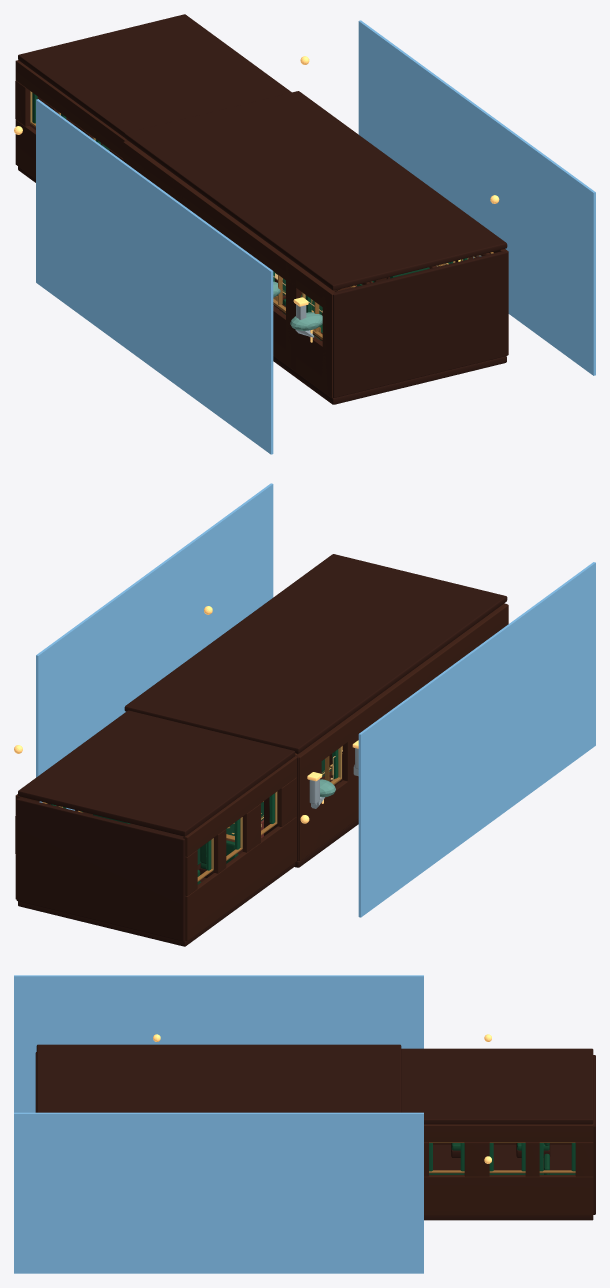
The model's file is train_carriage.glb.
3 views of the same model, one above another, from view 1: azimuth 30°, elevation 25°; view 2: azimuth 150°, elevation 25°; view 3: azimuth 270°, elevation 25° (orthographic). The views are drawn at different scales.
Visible parts, largest first — view 1: Exterior | endless twilight, Ceiling | inner canopy, Exterior | endless twilight.001, Front wall | end panel, Next carriage | ceiling canopy, Side wall | upper mahogany, Next carriage | left upper wall, Side wall | lower mahogany, Floor | dark oak foundation, Side wall | end pier, Side wall | window pier.004, Next carriage | left lower wall (+1 smaller); view 2: Exterior | endless twilight, Ceiling | inner canopy, Exterior | endless twilight.001, Next carriage | ceiling canopy, Next carriage | distant end wall, Next carriage | left lower wall, Side wall | upper mahogany, Next carriage | left upper wall, Side wall | lower mahogany, Side wall | window pier, Next carriage | walnut floor, Next carriage | window end pier (+2 smaller); view 3: Exterior | endless twilight.001, Exterior | endless twilight, Ceiling | inner canopy, Next carriage | ceiling canopy, Next carriage | right lower wall, Next carriage | right upper wall, Next carriage | walnut floor, Next carriage | window pier.005, Next carriage | window pier.003, Next carriage | window pier.004, Next carriage | distant end wall.
Part boxes in pixels (x1,y1,x2,y2): Exterior | endless twilight: (36, 99, 273, 454); Ceiling | inner canopy: (124, 91, 507, 290); Exterior | endless twilight.001: (358, 20, 595, 375); Front wall | end panel: (333, 251, 507, 397); Next carriage | ceiling canopy: (18, 14, 291, 137); Side wall | upper mahogany: (123, 141, 333, 313); Next carriage | left upper wall: (15, 60, 127, 158); Side wall | lower mahogany: (273, 306, 332, 398); Floor | dark oak foundation: (273, 356, 506, 404); Side wall | end pier: (322, 287, 334, 397); Side wall | window pier.004: (286, 261, 301, 371); Next carriage | left lower wall: (15, 120, 35, 178); Exterior | endless twilight: (358, 562, 595, 917); Ceiling | inner canopy: (124, 554, 507, 753); Exterior | endless twilight.001: (36, 483, 273, 810); Next carriage | ceiling canopy: (18, 710, 295, 836); Next carriage | distant end wall: (16, 797, 185, 941); Next carriage | left lower wall: (185, 816, 296, 940); Side wall | upper mahogany: (296, 606, 508, 776); Next carriage | left upper wall: (183, 756, 296, 856); Side wall | lower mahogany: (299, 776, 358, 860); Side wall | window pier: (297, 741, 321, 859); Next carriage | walnut floor: (18, 823, 295, 946); Next carriage | window end pier: (277, 777, 296, 826); Exterior | endless twilight.001: (14, 1112, 423, 1273); Exterior | endless twilight: (14, 975, 423, 1112); Ceiling | inner canopy: (36, 1044, 401, 1112); Next carriage | ceiling canopy: (401, 1048, 593, 1124); Next carriage | right lower wall: (424, 1175, 593, 1215); Next carriage | right upper wall: (424, 1124, 593, 1142); Next carriage | walnut floor: (424, 1144, 593, 1220); Next carriage | window pier.005: (464, 1142, 489, 1176); Next carriage | window pier.003: (575, 1142, 593, 1176); Next carriage | window pier.004: (525, 1142, 539, 1176); Next carriage | distant end wall: (593, 1055, 595, 1214).
Bounding box in the file's own units: 10.78 × 5.8 × 19.16.
